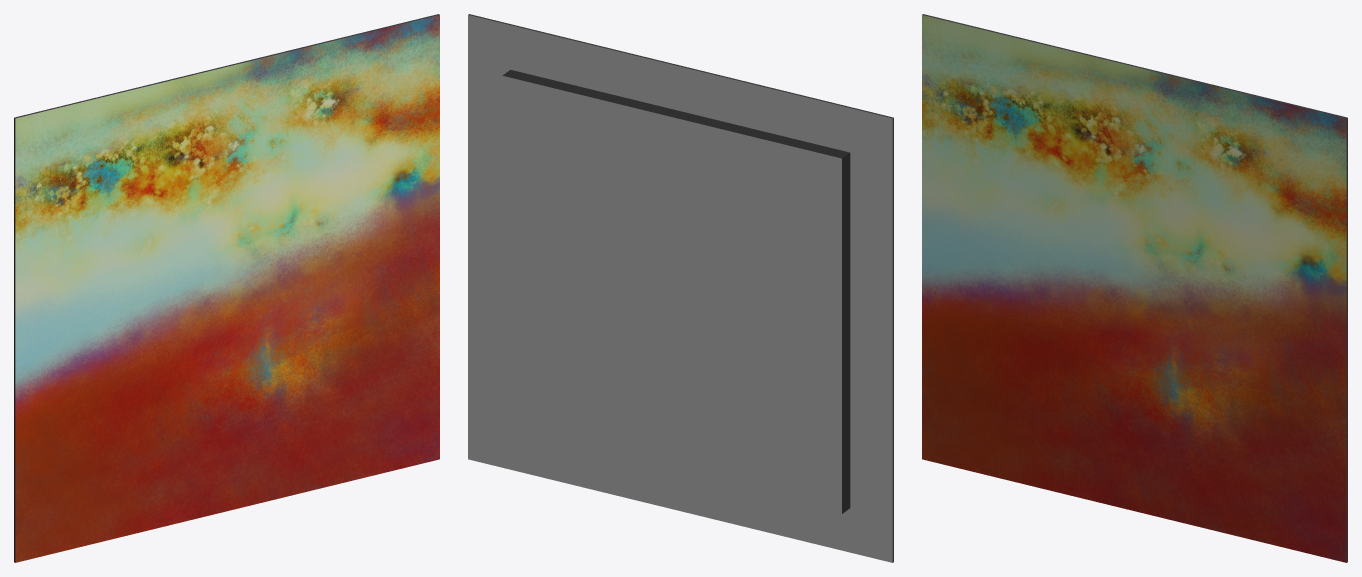
File: va273_moyen_dibond.glb
3 views of the same model, side by side, from view 1: azimuth 30°, elevation 25°; view 2: azimuth 150°, elevation 25°; view 3: azimuth 330°, elevation 25° (orthographic).
Parts seen in each view (by area): view 1: va273_moyen_dibond; view 2: va273_moyen_dibond; view 3: va273_moyen_dibond.
Part boxes in pixels (bbox=[...]): va273_moyen_dibond: bbox=[14, 14, 439, 562]; va273_moyen_dibond: bbox=[468, 14, 893, 562]; va273_moyen_dibond: bbox=[922, 14, 1347, 562].
Bounding box in the file's own units: 0.6 × 0.6 × 0.023.
4 materials, 1 textured.
